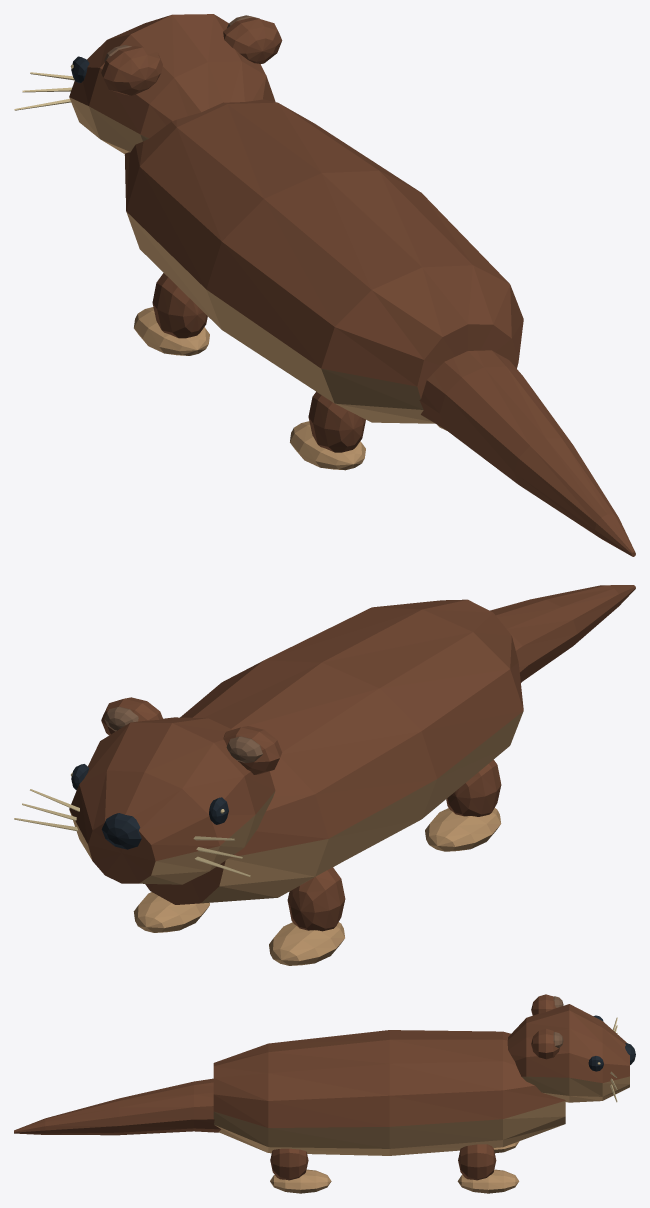
File: otter.glb
The picture shows the model from 3 angles, top to bottom: view 1: azimuth 30°, elevation 25°; view 2: azimuth 150°, elevation 25°; view 3: azimuth 270°, elevation 25°; orthographic projection. The views are drawn at different scales.
Parts seen in each view (by area): view 1: Body, Head, Tail, Leg2, Leg0; view 2: Body, Head, Tail, Leg0, Leg2, Leg1; view 3: Body, Head, Tail, Leg1, Leg3.
Part boxes in pixels (x1,y1,x2,y2): Body: (124, 99, 523, 423); Head: (14, 14, 282, 153); Tail: (419, 350, 635, 556); Leg2: (290, 391, 365, 470); Leg0: (134, 273, 209, 355); Body: (145, 599, 523, 904); Head: (14, 697, 282, 884); Tail: (490, 585, 635, 682); Leg0: (269, 867, 345, 965); Leg2: (425, 759, 501, 851); Leg1: (133, 892, 209, 932); Body: (213, 1030, 565, 1155); Head: (507, 994, 635, 1102); Tail: (14, 1078, 220, 1135); Leg1: (457, 1144, 519, 1193); Leg3: (270, 1148, 331, 1193).
Size of the model in its own units: 0.4204 by 0.4507 by 1.59.
